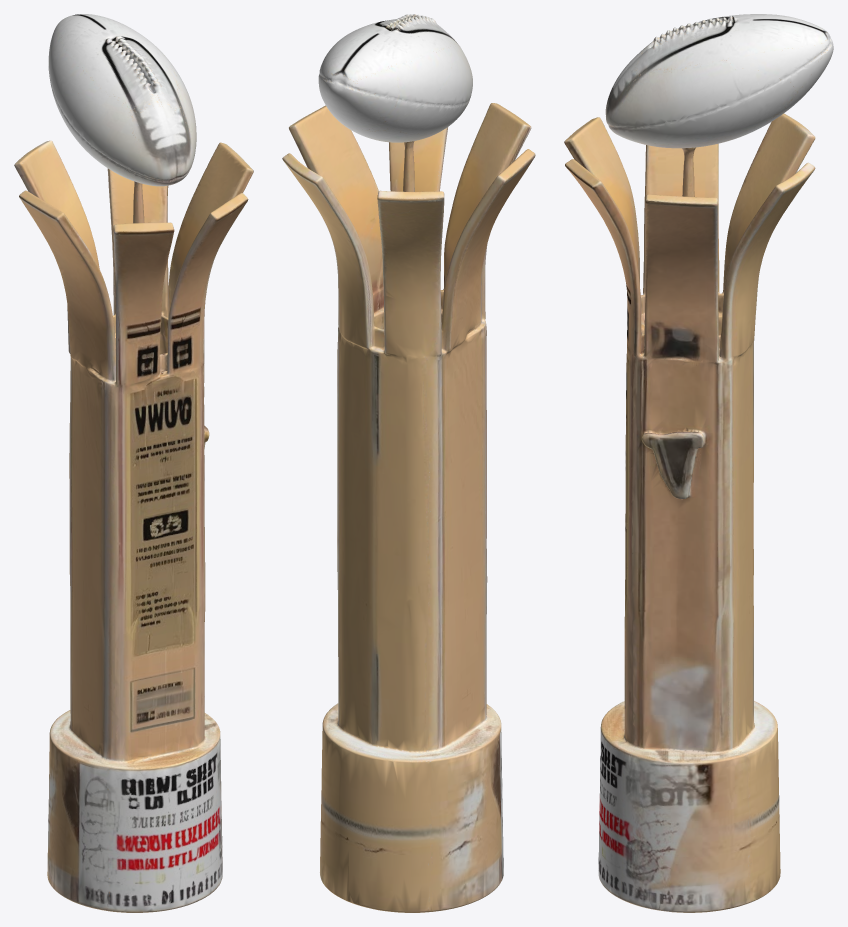
The model's file is meilleurSixNations.glb.
3 views of the same model, side by side, from view 1: azimuth 30°, elevation 25°; view 2: azimuth 150°, elevation 25°; view 3: azimuth 270°, elevation 25° (orthographic). The views are drawn at different scales.
Visible parts, largest first — view 1: mesh_node; view 2: mesh_node; view 3: mesh_node.
Part boxes in pixels (box(x1,y1,x2,y2)): mesh_node: box(14, 14, 253, 912); mesh_node: box(282, 14, 535, 912); mesh_node: box(564, 14, 833, 912).
Size of the model in its own units: 0.5003 by 1.9 by 0.5418.
Materials: 1 (1 with a texture image).
